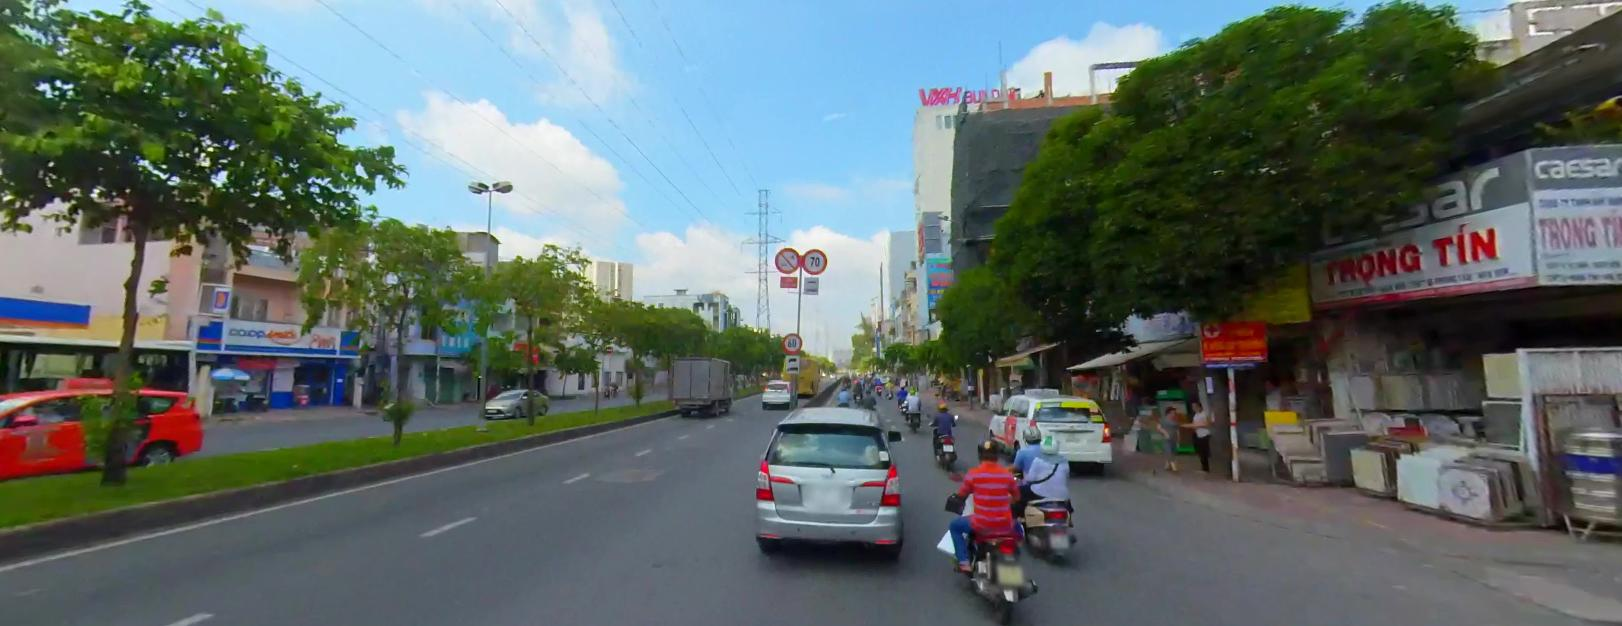Cam con lai: (773, 246, 800, 272)
Gioi han toc do: (802, 246, 827, 274), (782, 330, 802, 352)
